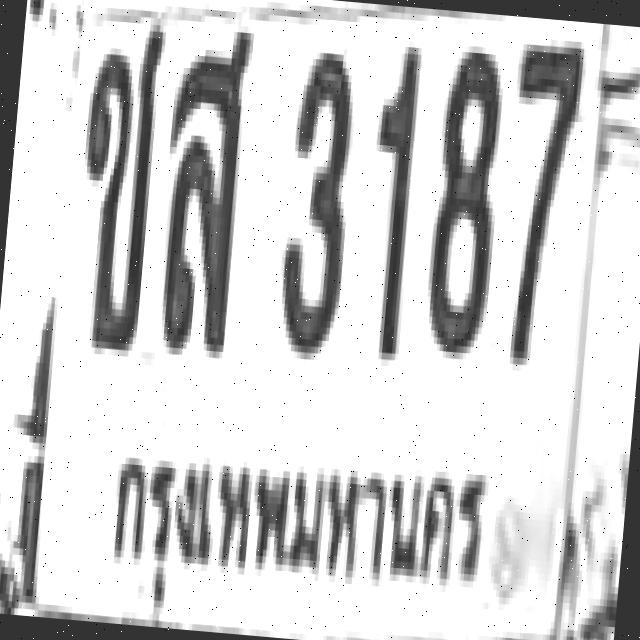1: (356, 38, 421, 354)
19ChorChang: (64, 9, 164, 347)
3: (270, 43, 357, 354)
49SorSuea: (149, 16, 251, 348)
7: (492, 29, 584, 360)
8: (419, 43, 506, 354)
NakhonPathom: (91, 417, 500, 640)
